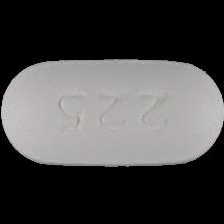66336-367: (0, 0, 224, 224)
